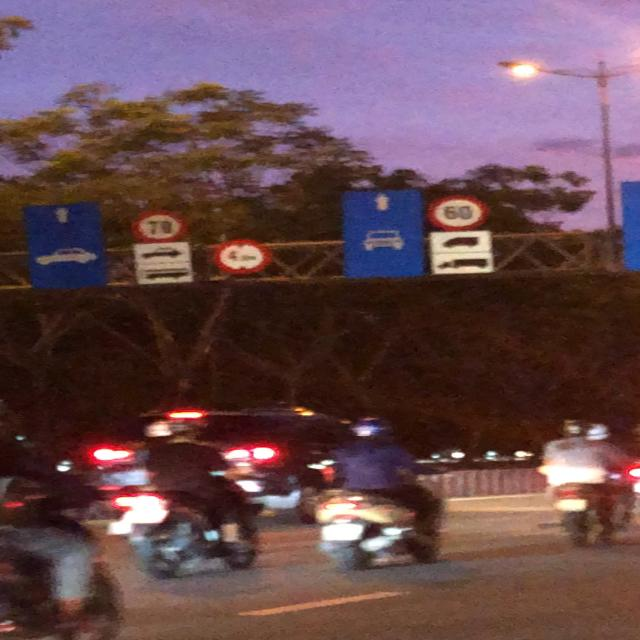Bien bao han che chieu cao: (213, 238, 278, 276)
Bien bao toc do toi da cho phep: (422, 194, 493, 234), (123, 206, 190, 242)
